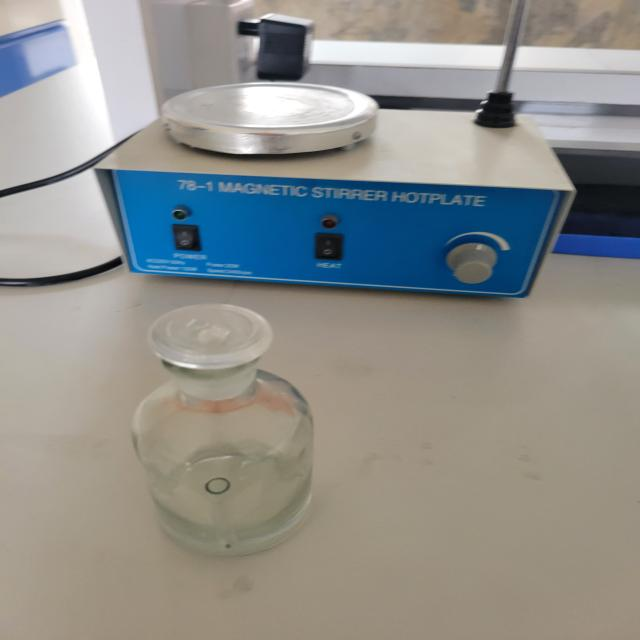Reagent_Bottle: (102, 266, 338, 590)
